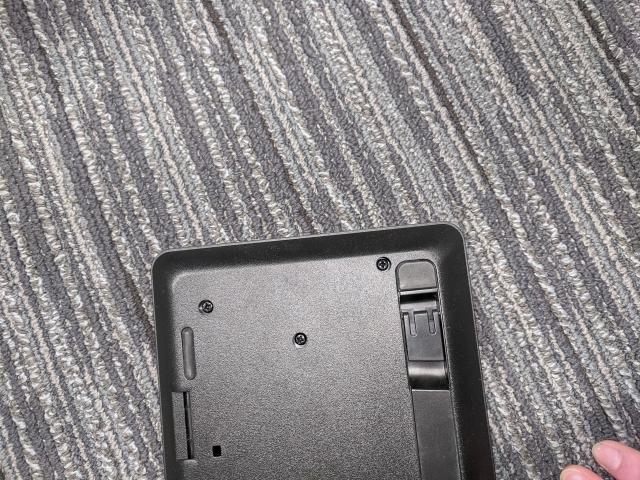CRS: (199, 297, 216, 316), (375, 258, 390, 272), (293, 332, 307, 344)
